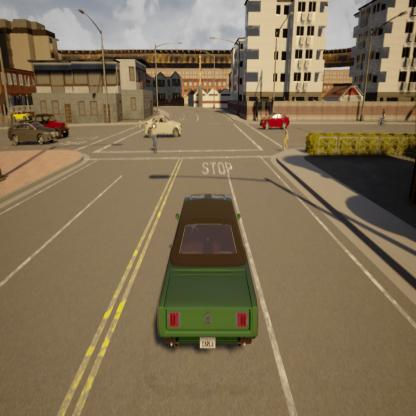Cars: (147, 180, 266, 372), (140, 112, 188, 145), (8, 124, 61, 148), (255, 106, 296, 134), (32, 112, 71, 135), (9, 104, 33, 122)
Pedestrian: (281, 122, 292, 152)
